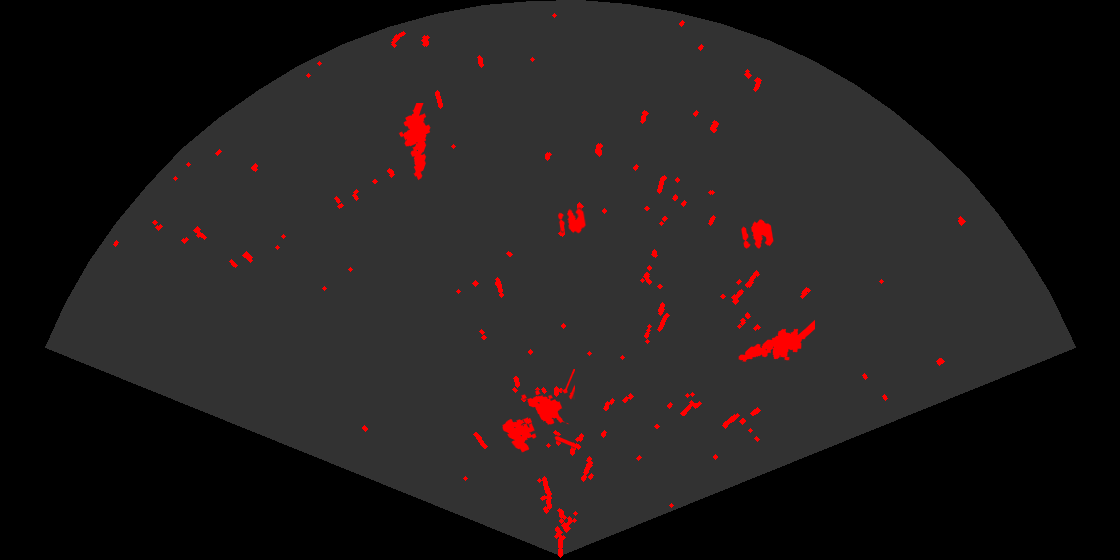ball: (740, 218, 775, 250), (556, 207, 588, 235)
cage: (501, 369, 575, 454)
frogman: (737, 318, 815, 363), (397, 103, 432, 182)
